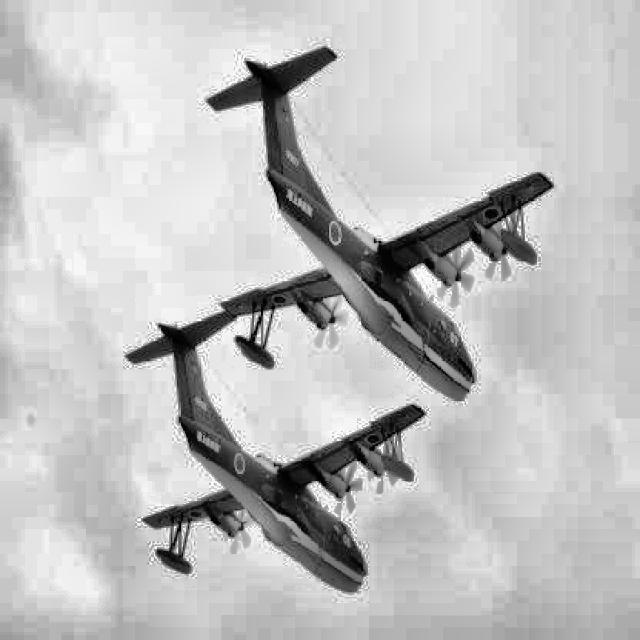US2: (203, 45, 554, 400), (125, 310, 426, 593)
